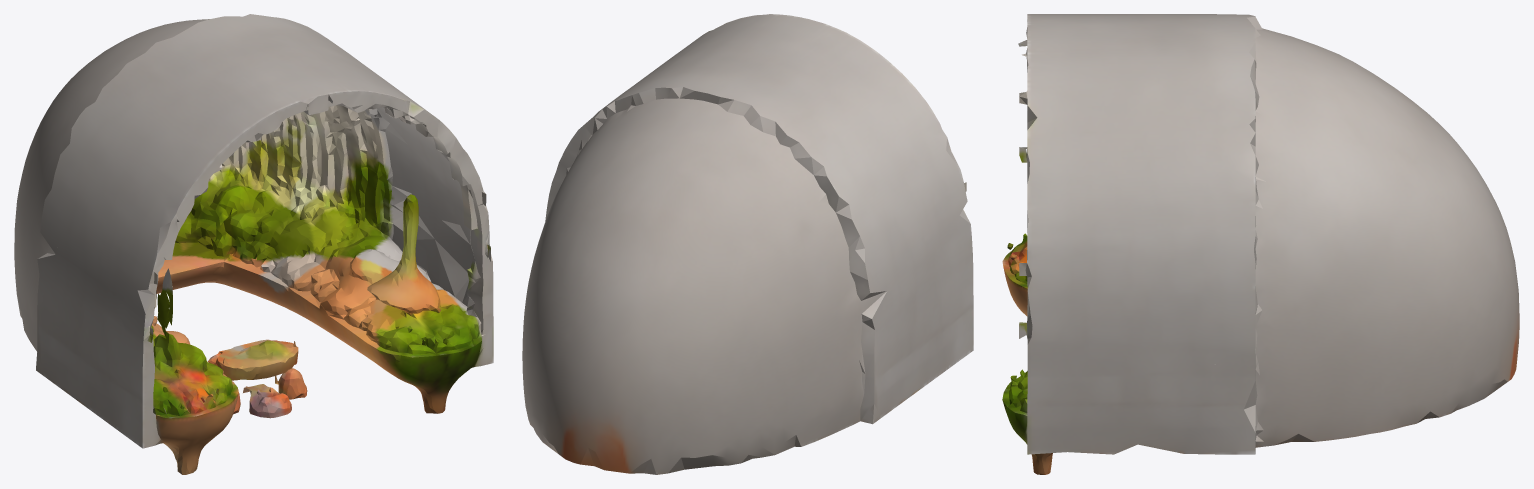
3 views of the same model, side by side, from view 1: azimuth 30°, elevation 25°; view 2: azimuth 150°, elevation 25°; view 3: azimuth 270°, elevation 25° (orthographic). The views are drawn at different scales.
Parts seen in each view (by area): view 1: 024; view 2: 024; view 3: 024.
Boxes of the visible parts, bbox=[...] form: 024: bbox=[14, 14, 493, 474]; 024: bbox=[522, 14, 973, 474]; 024: bbox=[1002, 14, 1519, 474].
Bounding box in the file's own units: 1.58 × 1.51 × 1.9.
Materials: 1 (1 with a texture image).
